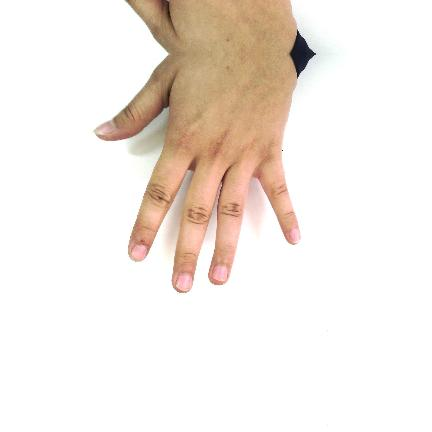Nail: (93, 119, 116, 135), (130, 245, 147, 262), (176, 274, 192, 291), (212, 266, 228, 281), (290, 228, 301, 244)
